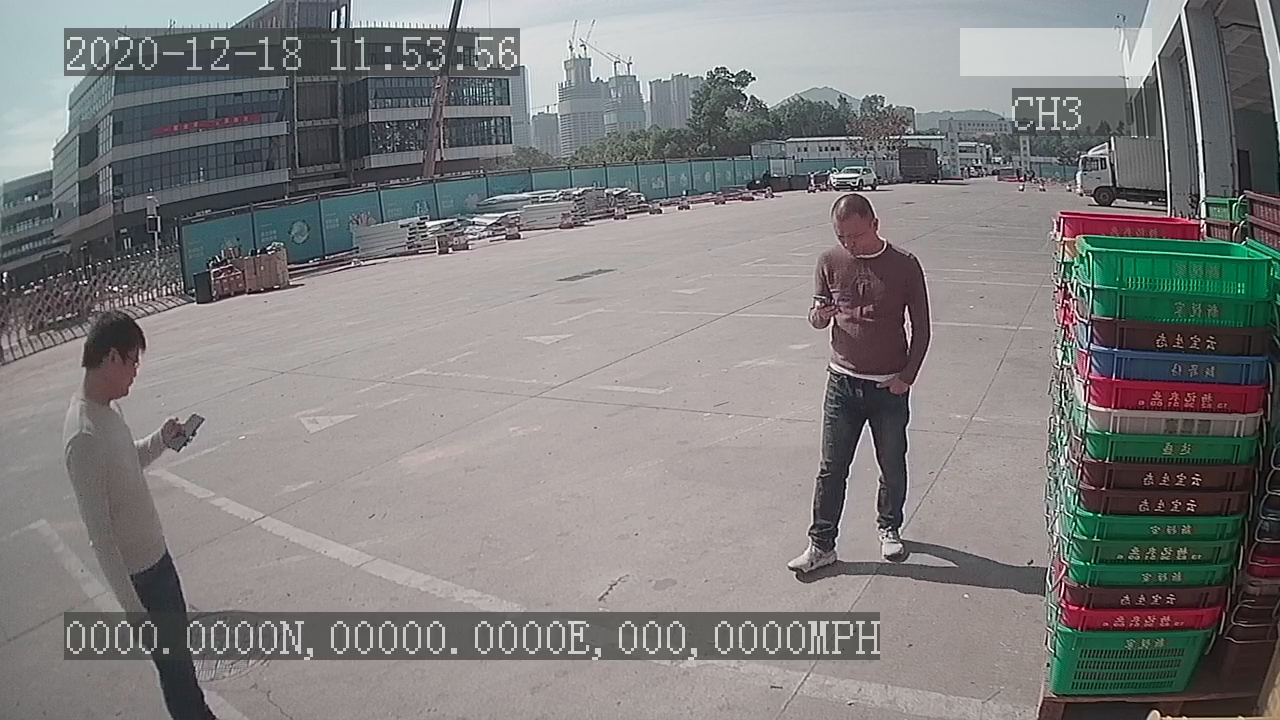person: (779, 192, 936, 581)
